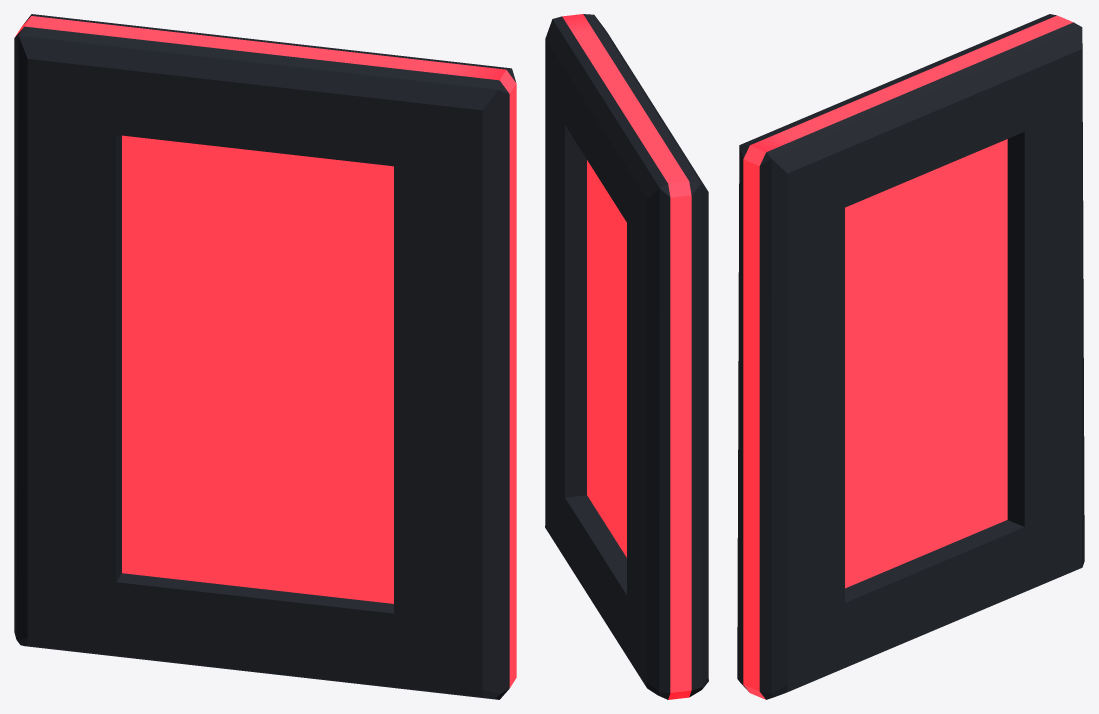
Rendered from red_scarab.gltf.
3 views of the same model, side by side, from view 1: azimuth 30°, elevation 25°; view 2: azimuth 150°, elevation 25°; view 3: azimuth 270°, elevation 25° (orthographic). The views are drawn at different scales.
Parts seen in each view (by area): view 1: red_scarab; view 2: red_scarab; view 3: red_scarab.
Part boxes in pixels (box(x1,y1,x2,y2)): red_scarab: box(14, 14, 516, 699); red_scarab: box(545, 14, 708, 699); red_scarab: box(737, 14, 1084, 699).
Size of what is drawn, in the model's own units: 1.38 by 2.4 by 1.38.
Materials: 2 (2 with a texture image).
